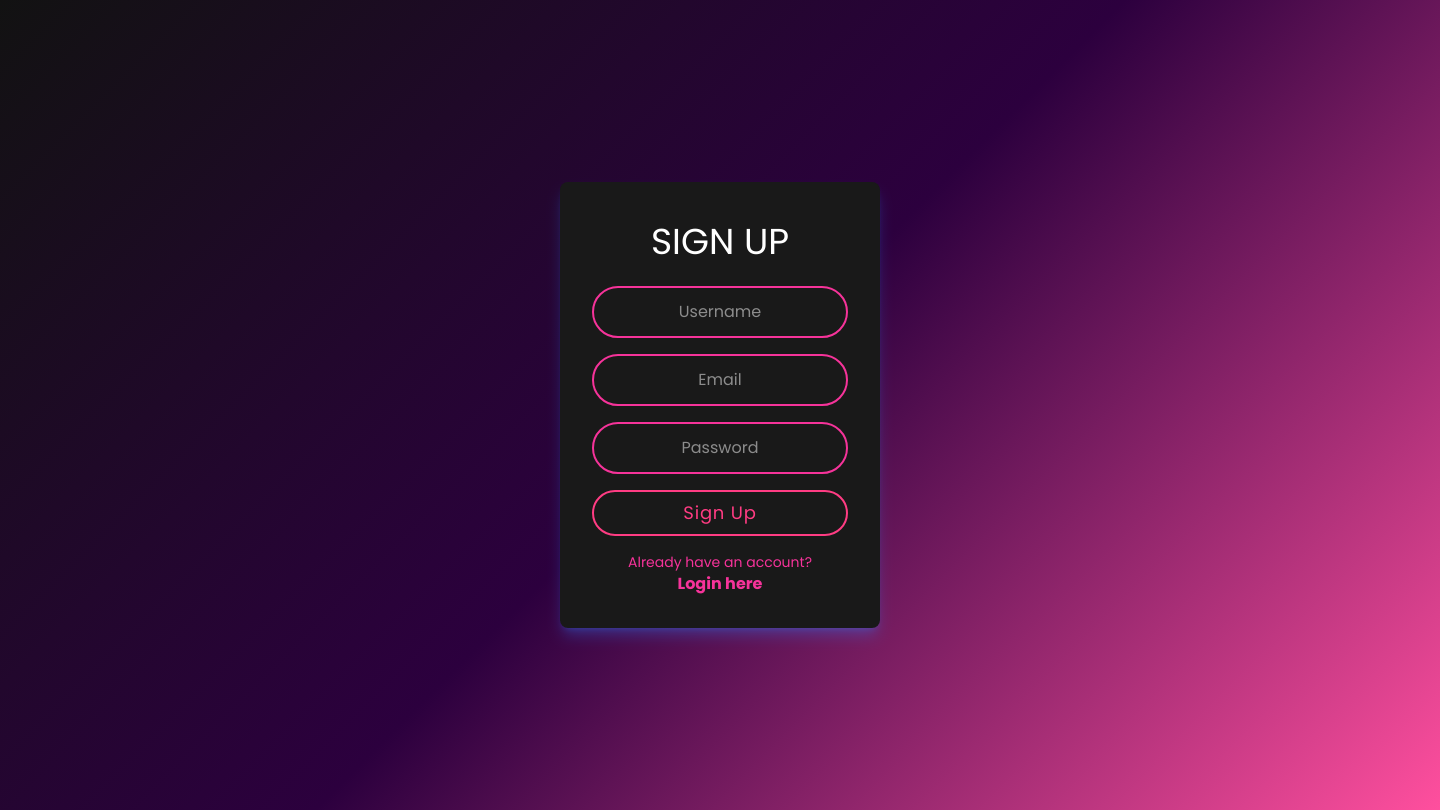
Scenario: SignupPage Component › should display success message and redirect after 2 seconds
This screenshot has width=1440, height=810.
// form fill & submit
In the field with placeholder "Username": (720, 312) [592,286,848,338], type "alice"
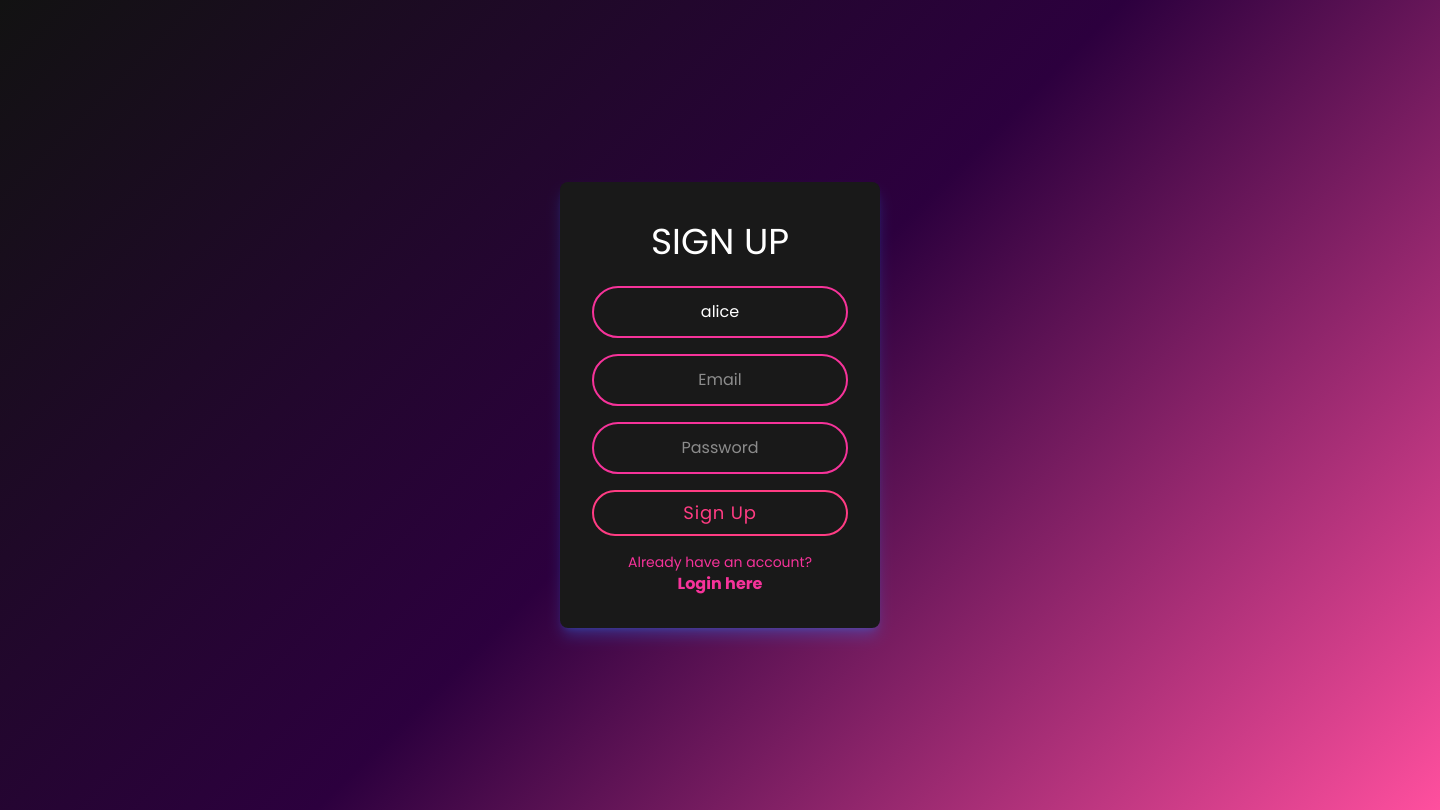
In the field with placeholder "Email": (720, 380) [592,354,848,406], type "alice@example.com"
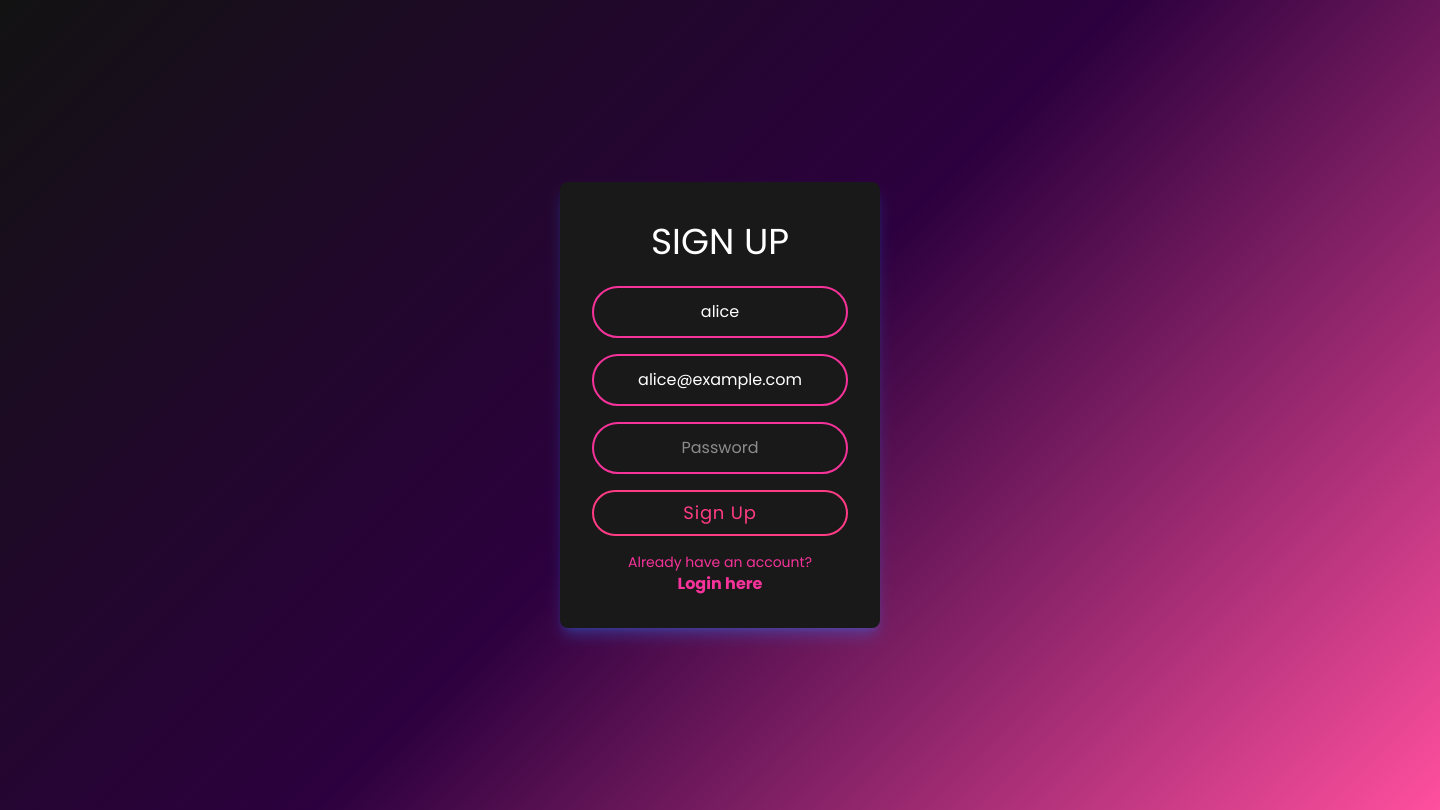
In the password field with placeholder "Password": (720, 448) [592,422,848,474], type "password123"
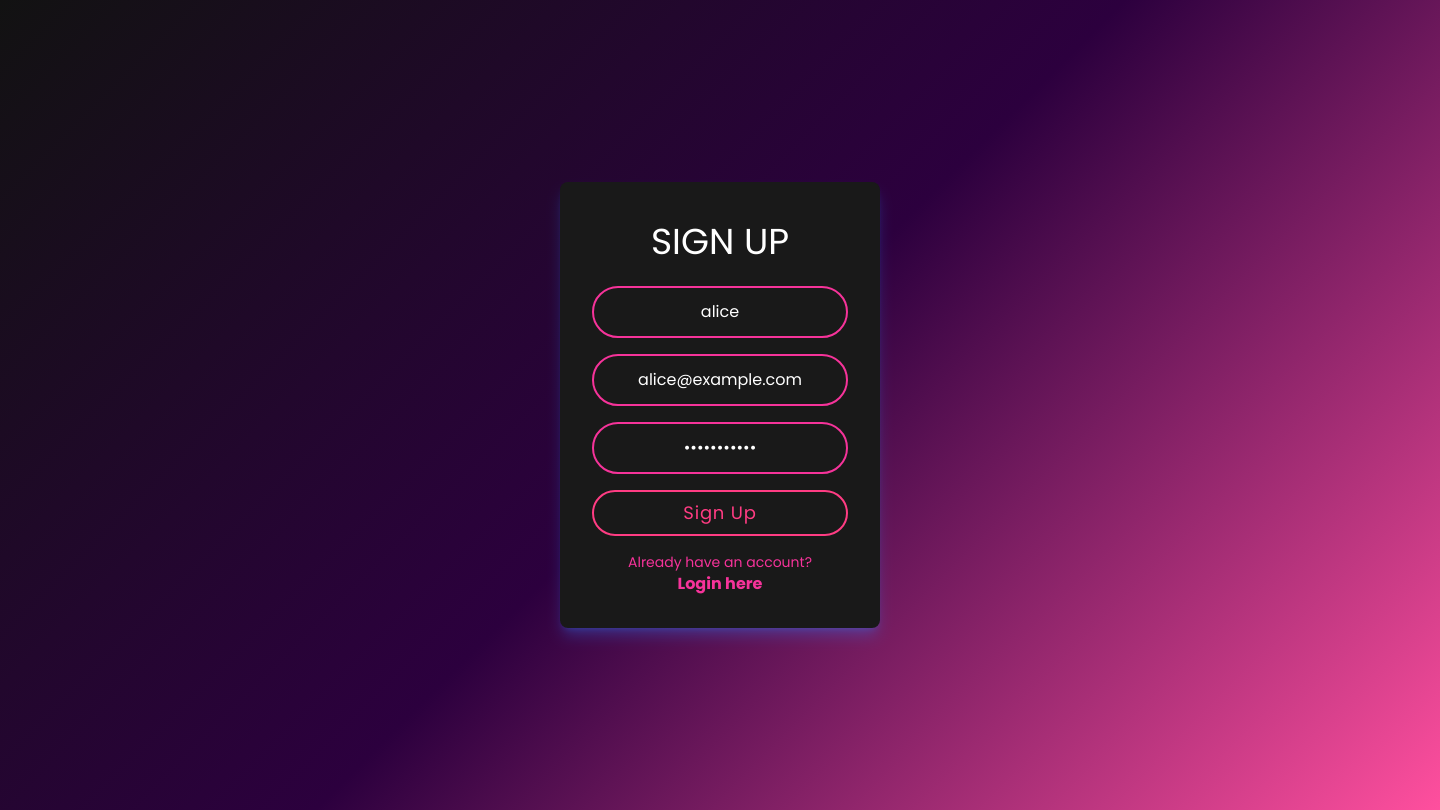
Click the button "Sign Up": (720, 513) [592,490,848,536]
Wait 2000 ms
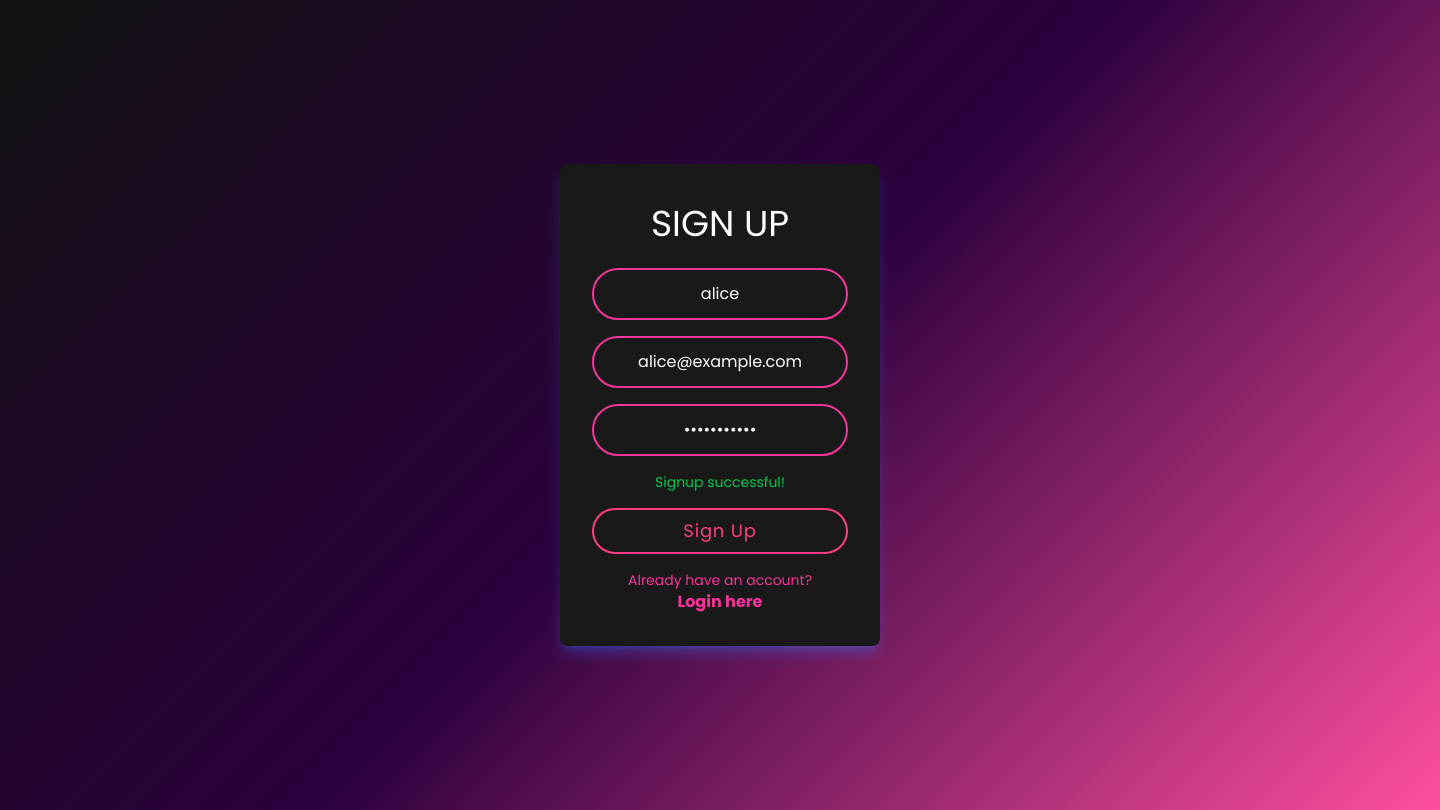
Expected: the text "Signup successful!" is shown, [655,472,785,492]
